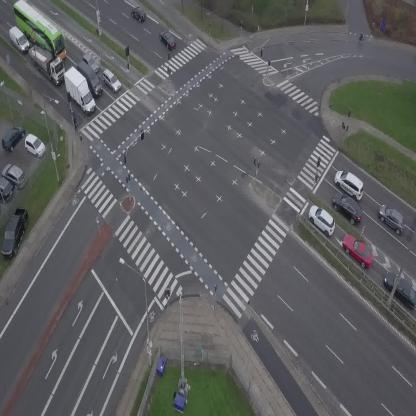bicycle: (72, 115, 80, 132), (356, 32, 364, 45)
car: (337, 229, 379, 272), (327, 187, 368, 227), (330, 166, 370, 202), (303, 201, 341, 238), (374, 200, 412, 236), (97, 67, 124, 94), (156, 27, 179, 52), (80, 51, 102, 74), (128, 4, 149, 24)
lorry: (17, 35, 73, 89), (59, 63, 98, 118), (73, 58, 108, 99), (4, 24, 34, 54)
